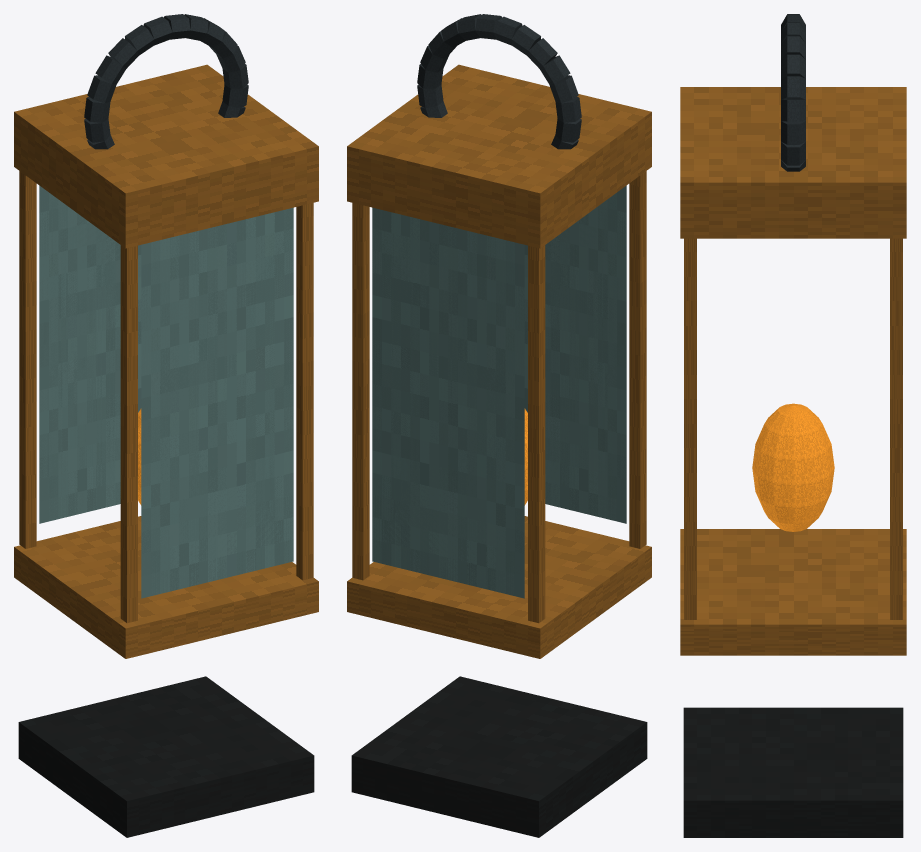
The model's file is SM_ship_lantern.gltf.
3 renders of one model, left to right at view 1: azimuth 30°, elevation 25°; view 2: azimuth 150°, elevation 25°; view 3: azimuth 270°, elevation 25°, orthographic.
Visible parts, largest first — view 1: swing, root; view 2: swing, root; view 3: swing, root.
Part boxes in pixels (bbox=[...]): swing: bbox=[14, 14, 318, 658]; root: bbox=[18, 676, 314, 837]; swing: bbox=[347, 14, 651, 658]; root: bbox=[351, 676, 647, 837]; swing: bbox=[680, 14, 906, 655]; root: bbox=[683, 707, 903, 837].
Bounding box in the file's own units: 0.33 × 1.24 × 0.33.
Materials: 5 (5 with a texture image).
